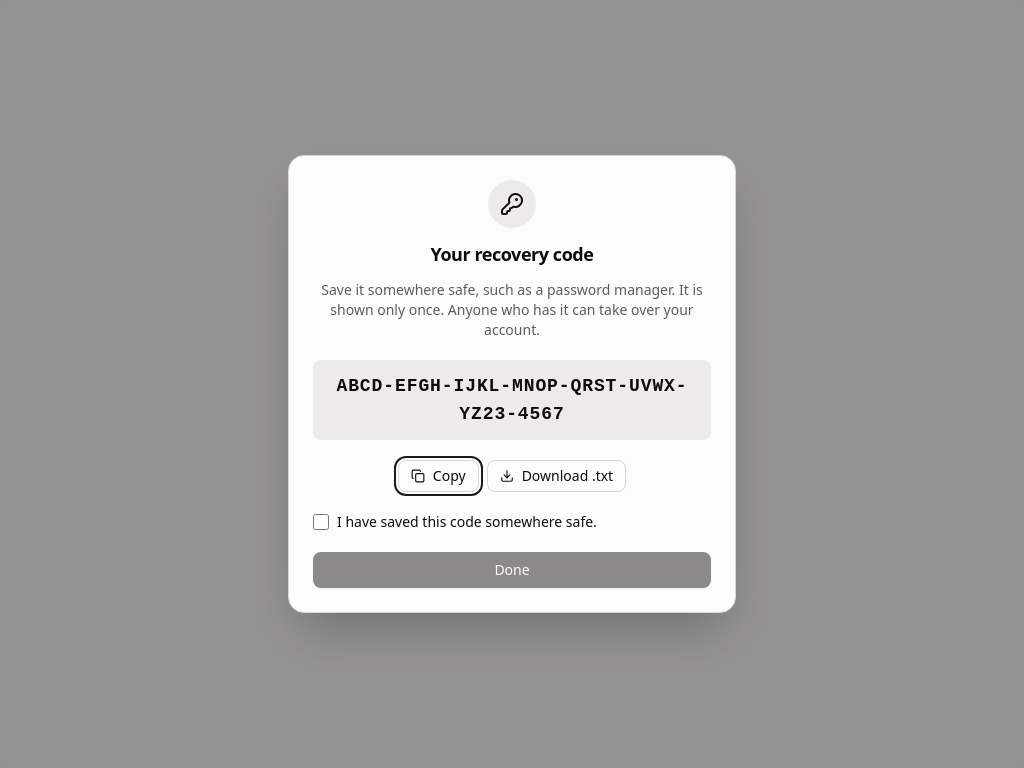
RecoveryCodeDialog › shows the code and cannot be closed until the person confirms they saved it
Later steps or results of the test are not shown.
Expected: the text with test id "recovery-code" reads "ABCD-EFGH-IJKL-MNOP-QRST-UVWX-YZ23-4567", [336, 376, 688, 424]
Expected: the button "Done" is disabled, [313, 552, 711, 588]
Press Escape
Press the mouse on the element that starts with "Your recovery code" at (512, 384), box [0, 0, 1023, 767]
Click the checkbox labelled "I have saved this code somewhere safe." at (321, 522), box [313, 514, 329, 530]
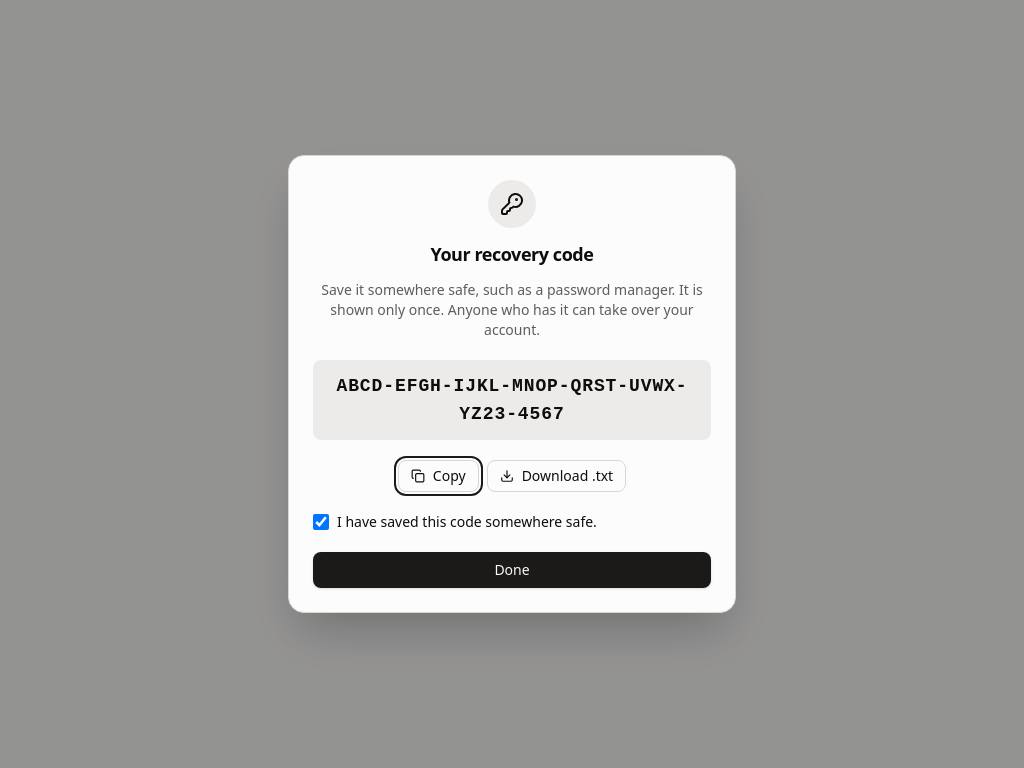
Expected: the button "Done" is enabled, [313, 552, 711, 588]
